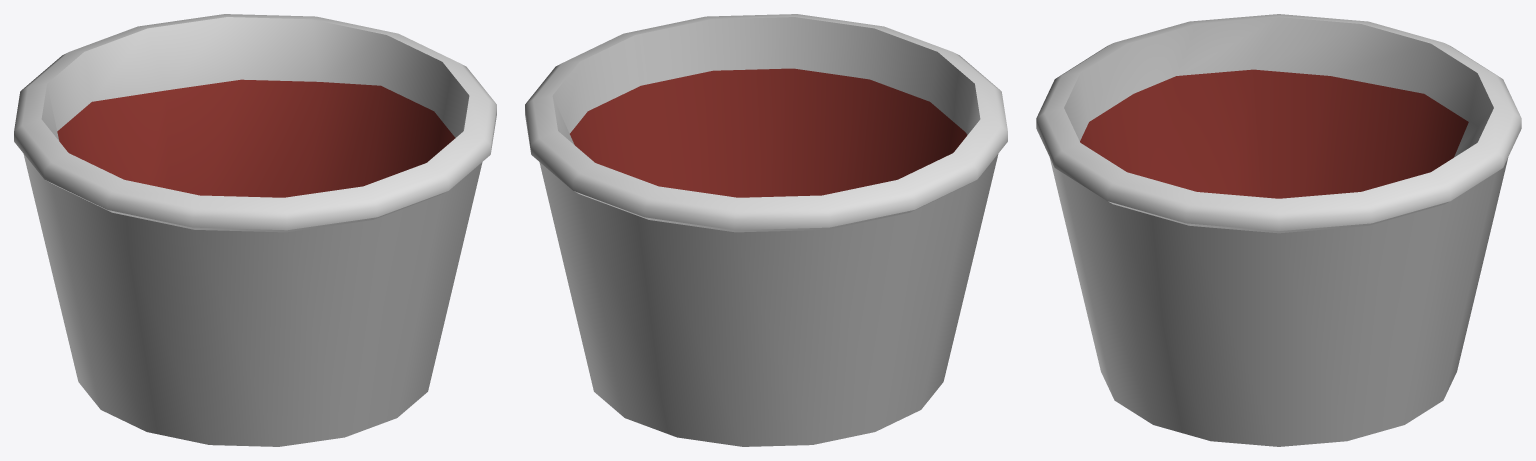
Rendered from ketchupCup.fbx.
3 views of the same model, side by side, from view 1: azimuth 30°, elevation 25°; view 2: azimuth 150°, elevation 25°; view 3: azimuth 270°, elevation 25° (orthographic).
Parts seen in each view (by area): view 1: Ketchup Cup; view 2: Ketchup Cup; view 3: Ketchup Cup.
Part boxes in pixels (x1,y1,x2,y2): Ketchup Cup: [14, 14, 496, 446]; Ketchup Cup: [525, 14, 1007, 446]; Ketchup Cup: [1036, 14, 1521, 446].
Size of the model in its own units: 94.34 by 56.57 by 94.34.
